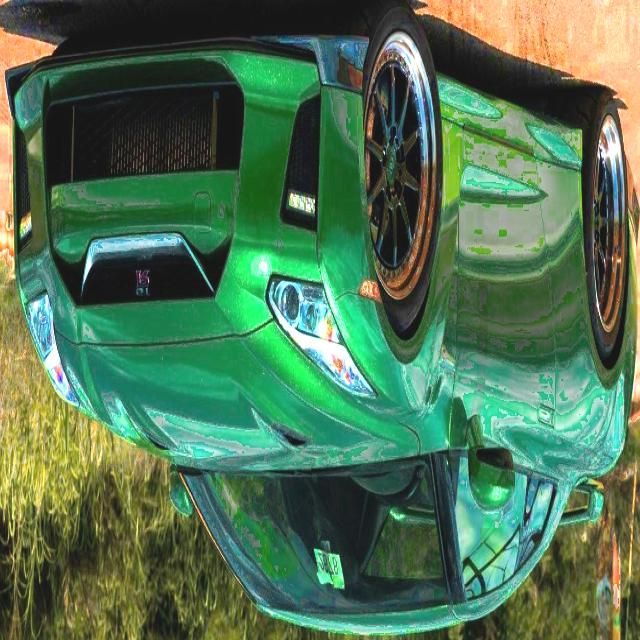green: (6, 12, 637, 632)
